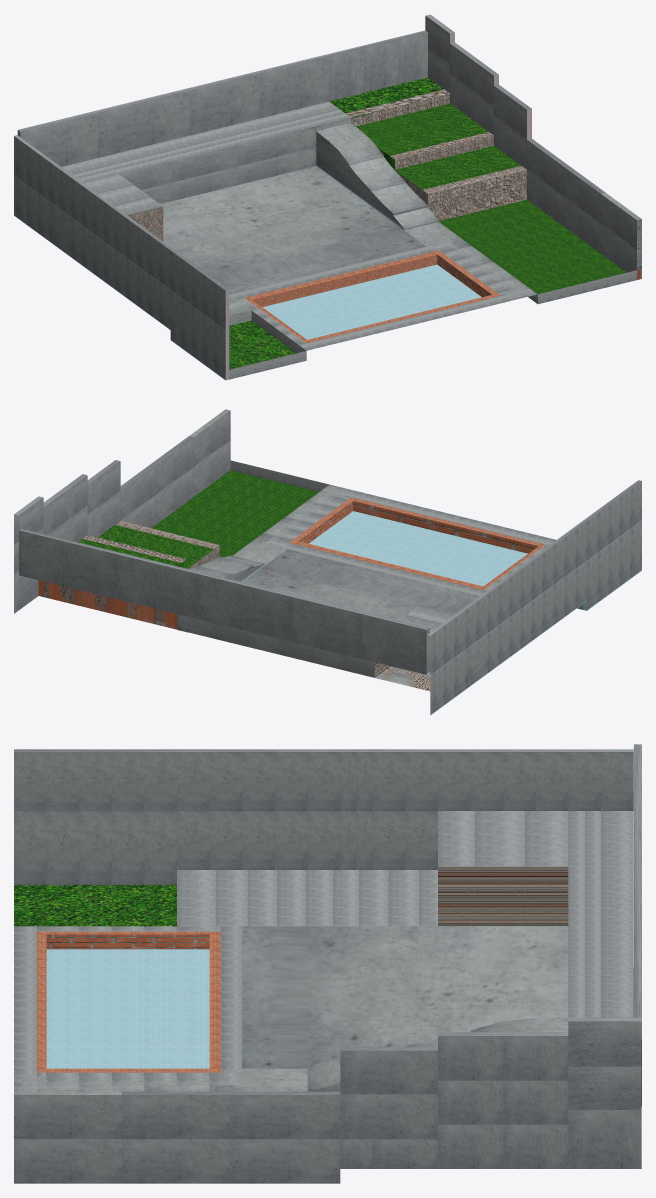
File: BASE_FACHADA.obj
3 views of the same model, one above another, from view 1: azimuth 30°, elevation 25°; view 2: azimuth 150°, elevation 25°; view 3: azimuth 270°, elevation 25° (orthographic). The views are drawn at different scales.
Parts seen in each view (by area): view 1: pPlane4; view 2: pPlane4; view 3: pPlane4.
Boxes of the visible parts, <box> form: pPlane4: <box>14,14,641,380</box>; pPlane4: <box>14,409,641,715</box>; pPlane4: <box>14,744,641,1183</box>.
Size of the model in its own units: 21.87 by 5.5 by 19.25.
Materials: 1 (1 with a texture image).
